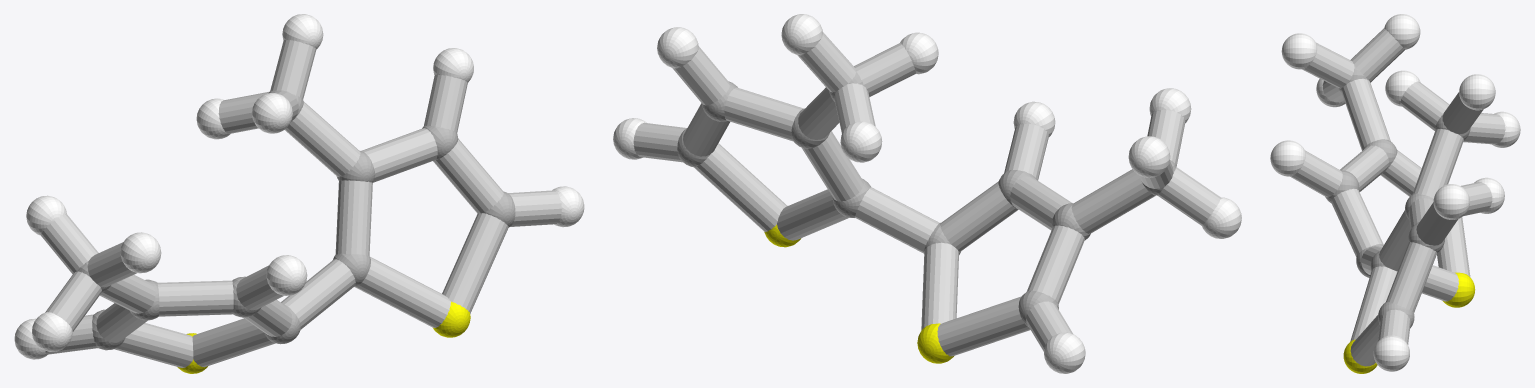
Rendered from Methylthiophene_Phi_40_Theta_110_Methylthiophene.glb.
3 renders of one model, left to right at view 1: azimuth 30°, elevation 25°; view 2: azimuth 150°, elevation 25°; view 3: azimuth 270°, elevation 25°, orthographic. The views are drawn at different scales.
Visible parts, largest first — view 1: grp7965, grp3621, grp1, grp7241; view 2: grp7965, grp3621, grp1, grp7241; view 3: grp7965, grp3621, grp1, grp7241.
Part boxes in pixels (box(x1,y1,x2,y2)): grp7965: box(40, 40, 561, 367); grp3621: box(14, 14, 584, 359); grp1: box(76, 90, 515, 350); grp7241: box(177, 301, 470, 373); grp7965: box(633, 32, 1221, 356); grp3621: box(613, 14, 1241, 373); grp1: box(677, 70, 1176, 327); grp7241: box(764, 224, 953, 363); grp7965: box(1290, 28, 1505, 366); grp3621: box(1270, 14, 1520, 371); grp1: box(1325, 65, 1470, 328); grp7241: box(1343, 272, 1475, 373).
Bounding box in the file's own units: 9.78 × 5.13 × 4.11.
